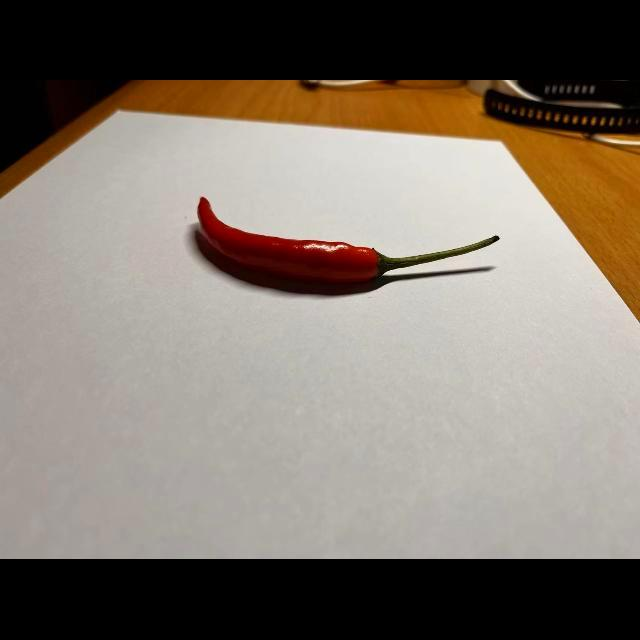chili_pepper: (186, 191, 507, 300)
